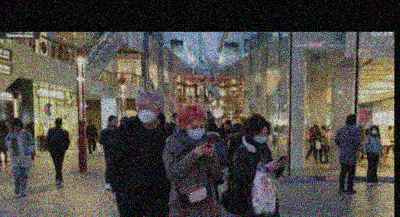with_mask: (136, 101, 158, 123), (186, 121, 206, 140), (253, 130, 268, 143), (370, 127, 378, 133), (88, 120, 92, 123)
without_mask: (110, 118, 118, 125), (223, 123, 231, 130), (12, 123, 20, 129)
